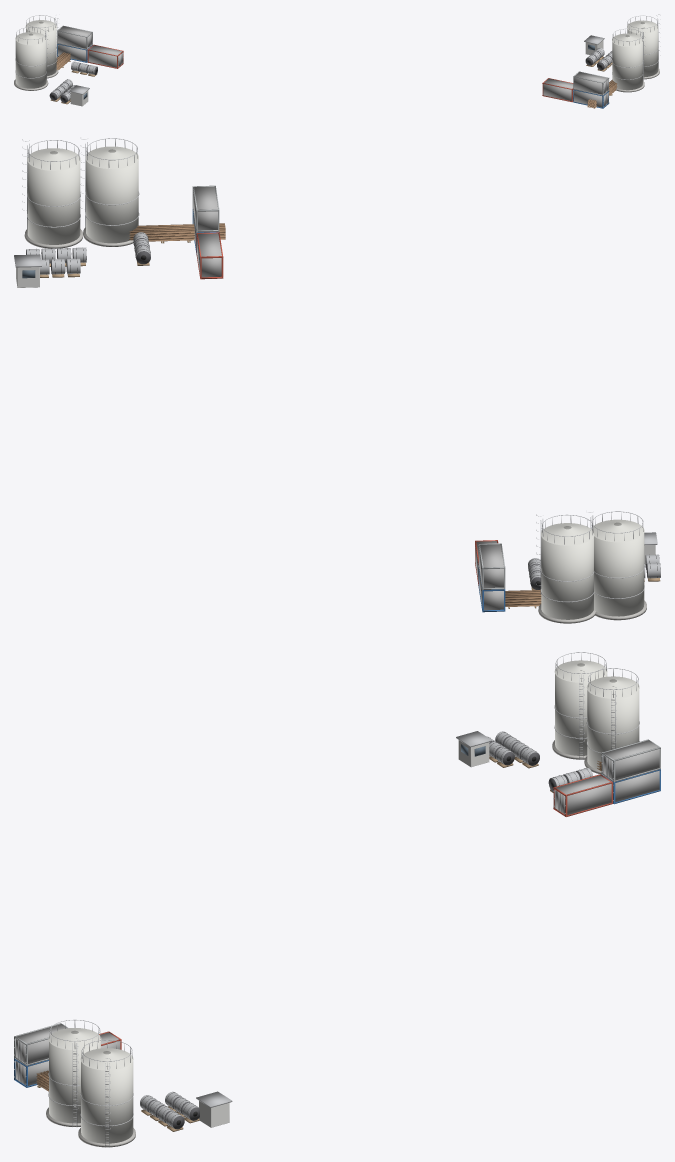
Rendered from fabrika_dress.glb.
3 renders of one model, top to bottom at view 1: azimuth 30°, elevation 25°; view 2: azimuth 150°, elevation 25°; view 3: azimuth 270°, elevation 25°, orthographic. The views are drawn at different scales.
Parts seen in each view (by area): view 1: chunk_2_-2, chunk_-3_1, chunk_-4_1, chunk_1_-3, chunk_1_-2, chunk_-3_0, chunk_-4_0; view 2: chunk_2_-2, chunk_-3_1, chunk_-4_1, chunk_1_-3, chunk_1_-2; view 3: chunk_2_-2, chunk_-3_1, chunk_-4_1, chunk_-3_0, chunk_1_-3, chunk_1_-2.
Part boxes in pixels (<box>): chunk_2_-2: <box>584,15,659,92</box>; chunk_-3_1: <box>25,15,122,78</box>; chunk_-4_1: <box>14,23,48,90</box>; chunk_1_-3: <box>571,40,629,108</box>; chunk_1_-2: <box>542,31,615,101</box>; chunk_-3_0: <box>59,51,123,106</box>; chunk_-4_0: <box>27,35,71,104</box>; chunk_2_-2: <box>14,138,139,287</box>; chunk_-3_1: <box>475,514,595,623</box>; chunk_-4_1: <box>574,511,646,620</box>; chunk_1_-3: <box>129,143,225,254</box>; chunk_1_-2: <box>61,155,223,279</box>; chunk_2_-2: <box>46,1019,232,1147</box>; chunk_-3_1: <box>553,668,660,816</box>; chunk_-4_1: <box>552,652,631,759</box>; chunk_-3_0: <box>456,731,580,816</box>; chunk_1_-3: <box>14,1021,68,1091</box>; chunk_1_-2: <box>74,1020,183,1115</box>.
Size of the model in its own units: 105 by 10.62 by 69.53.
